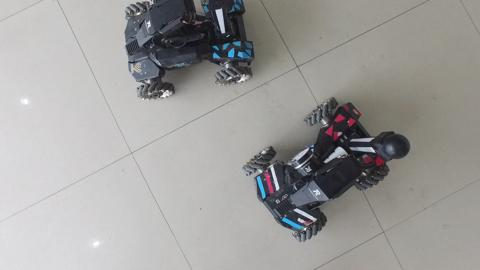chariot: (239, 86, 412, 250), (104, 1, 267, 112)
